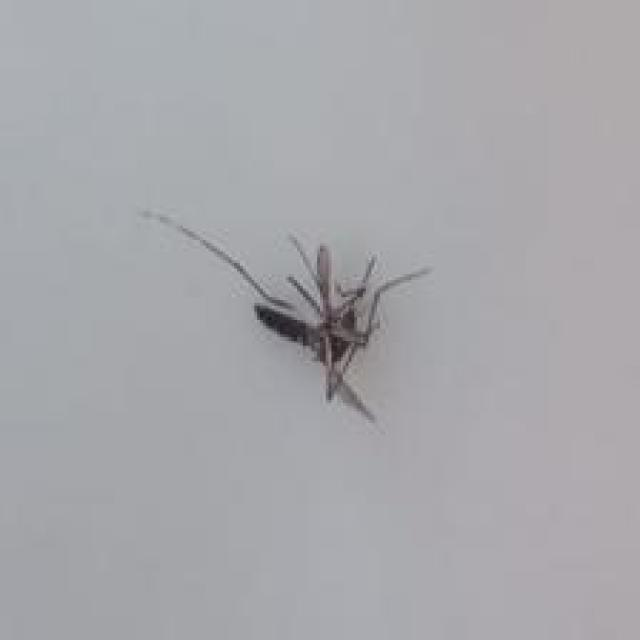Aedes albopictus: (140, 207, 431, 424)
